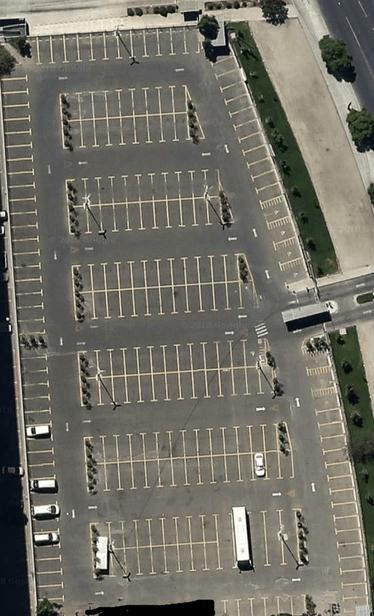parkingspot: (311, 392, 369, 613), (1, 76, 47, 336), (19, 355, 65, 603), (210, 54, 285, 205), (90, 449, 295, 493), (89, 421, 279, 465), (85, 365, 276, 407), (83, 337, 261, 379), (79, 280, 255, 321), (36, 24, 201, 66), (77, 251, 240, 293), (73, 195, 224, 236), (70, 167, 221, 207), (67, 111, 191, 151), (64, 83, 188, 122), (107, 513, 219, 551), (110, 541, 221, 578), (236, 593, 307, 616), (261, 199, 291, 225), (268, 221, 297, 246), (274, 242, 303, 266), (280, 263, 309, 286), (302, 349, 331, 371), (307, 371, 335, 393)
